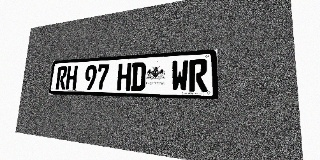7: (96, 64, 110, 90)
9: (84, 65, 97, 90)
D: (131, 62, 146, 91)
H: (117, 63, 132, 91), (65, 66, 78, 90)
R: (189, 59, 208, 92), (56, 66, 68, 90)
W: (171, 60, 189, 92)
